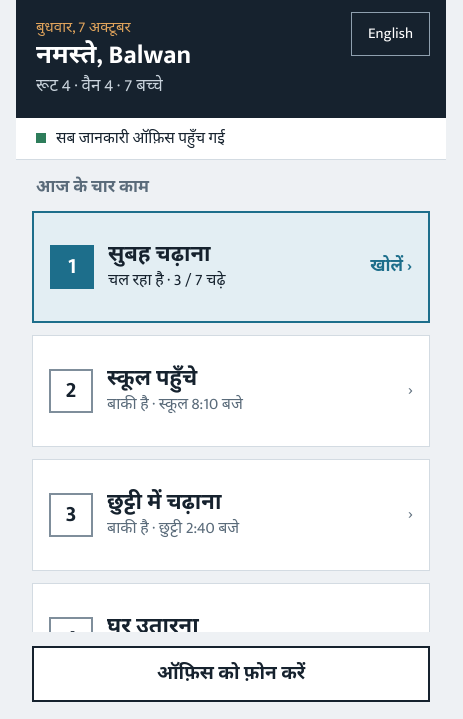
everyVisibleTextComesFromTheLanguageFile › the language button switches the whole Today page and the choice is kept
Expected: the heading "नमस्ते, Balwan" is shown, [36,34,191,77]
Click the button with aria-label "भाषा बदलें: English".
click(391, 34)  # box [351,12,430,56]
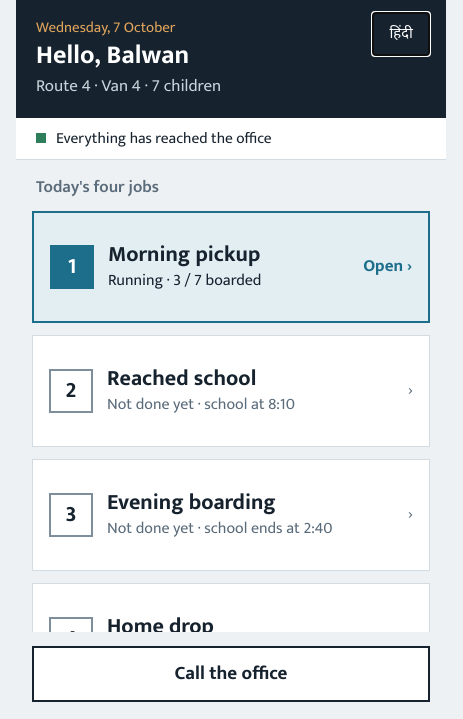
Expected: the heading "Hello, Balwan" is shown, [36,34,189,77]
Expected: the text "Wednesday, 7 October" is shown, [36,15,175,40]
Expected: the link "1 Morning pickup Running · 3 / 7 boarded Open ›" is shown, [32,210,430,322]
